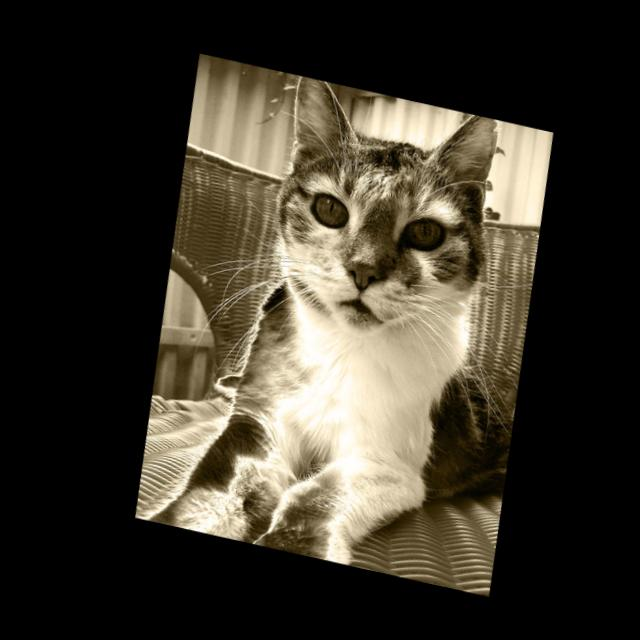animals: (264, 76, 502, 309)
